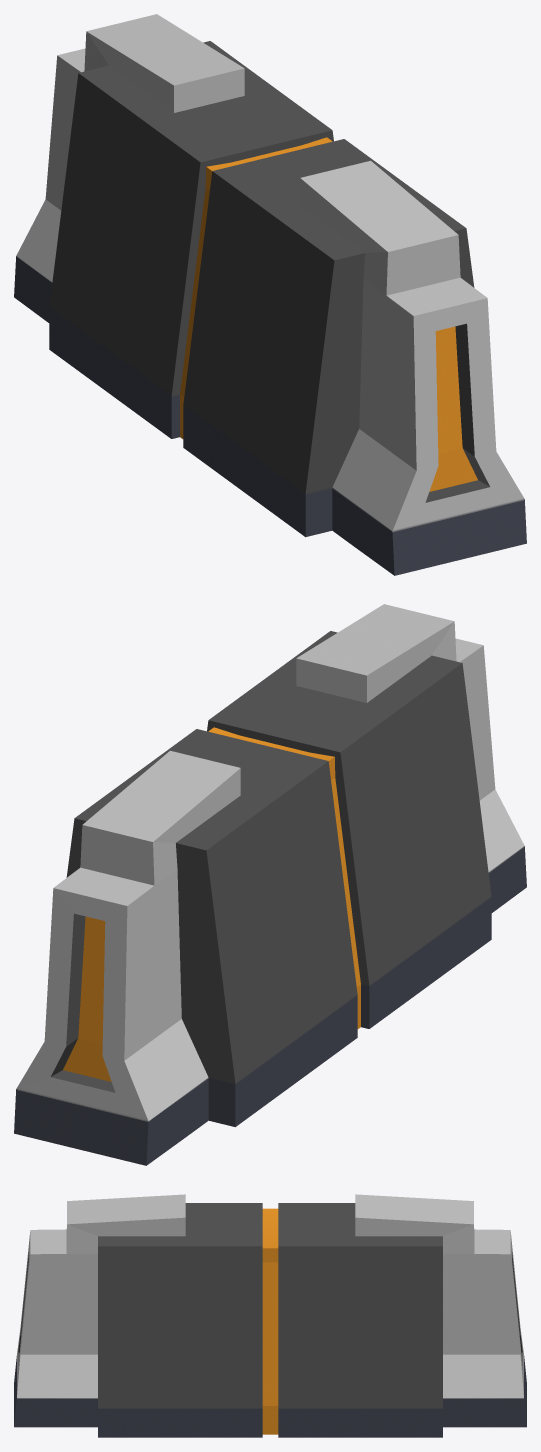
The model's file is BARRICADE.FBX.
3 renders of one model, top to bottom at view 1: azimuth 30°, elevation 25°; view 2: azimuth 150°, elevation 25°; view 3: azimuth 270°, elevation 25°, orthographic. The views are drawn at different scales.
Visible parts, largest first — view 1: Box013; view 2: Box013; view 3: Box013.
Part boxes in pixels (x1,y1,x2,y2): Box013: (14,14,526,575); Box013: (14,604,526,1165); Box013: (14,1194,526,1437).
Size of the model in its own units: 78.08 by 117 by 271.
Materials: 1 (1 with a texture image).
